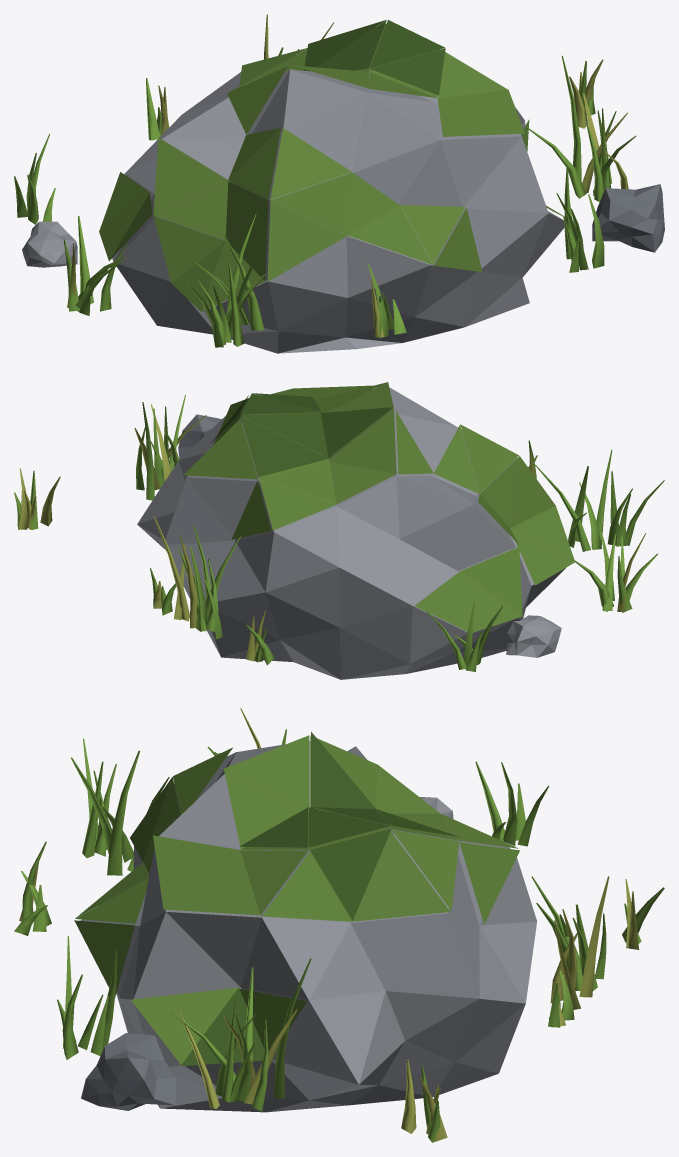
Rendered from boulder-2.glb.
3 views of the same model, one above another, from view 1: azimuth 30°, elevation 25°; view 2: azimuth 150°, elevation 25°; view 3: azimuth 270°, elevation 25° (orthographic). The views are drawn at different scales.
Parts seen in each view (by area): view 1: boulder, moss_patches, moss_thick, pebble_1, grass_tuft_1, grass_tuft_2, grass_tuft_5, pebble_2, grass_tuft_7, grass_tuft_8, grass_tuft_6, grass_tuft_4 (+1 smaller); view 2: boulder, moss_patches, moss_thick, grass_tuft_3, grass_tuft_2, grass_tuft_1, grass_tuft_5, pebble_2, grass_tuft_4, grass_tuft_8, pebble_1, grass_tuft_10 (+1 smaller); view 3: boulder, moss_patches, moss_thick, grass_tuft_1, pebble_1, grass_tuft_3, grass_tuft_2, grass_tuft_7, grass_tuft_8, grass_tuft_4, grass_tuft_6, grass_tuft_10 (+1 smaller).
Boxes of the visible parts, left/top/right/bottom form: boulder: left=112, top=65, right=564, bottom=353; moss_patches: left=99, top=23, right=563, bottom=311; moss_thick: left=303, top=20, right=445, bottom=95; pebble_1: left=592, top=184, right=664, bottom=252; grass_tuft_1: left=525, top=55, right=636, bottom=201; grass_tuft_2: left=187, top=213, right=265, bottom=347; grass_tuft_5: left=63, top=216, right=126, bottom=315; pebble_2: left=22, top=221, right=77, bottom=267; grass_tuft_7: left=556, top=167, right=604, bottom=272; grass_tuft_8: left=14, top=134, right=55, bottom=224; grass_tuft_6: left=367, top=264, right=406, bottom=338; grass_tuft_4: left=569, top=59, right=603, bottom=128; boulder: left=137, top=387, right=568, bottom=679; moss_patches: left=183, top=382, right=574, bottom=632; moss_thick: left=211, top=393, right=393, bottom=477; grass_tuft_3: left=153, top=516, right=240, bottom=639; grass_tuft_2: left=535, top=449, right=664, bottom=551; grass_tuft_1: left=134, top=395, right=206, bottom=500; grass_tuft_5: left=571, top=532, right=657, bottom=612; pebble_2: left=506, top=615, right=561, bottom=657; grass_tuft_4: left=14, top=468, right=60, bottom=529; grass_tuft_8: left=425, top=600, right=503, bottom=671; pebble_1: left=178, top=414, right=221, bottom=459; grass_tuft_10: left=246, top=610, right=274, bottom=665; boulder: left=80, top=741, right=536, bottom=1112; moss_patches: left=74, top=735, right=519, bottom=1064; moss_thick: left=181, top=732, right=459, bottom=1066; grass_tuft_1: left=170, top=958, right=311, bottom=1111; pebble_1: left=81, top=1033, right=175, bottom=1110; grass_tuft_3: left=531, top=876, right=609, bottom=1009; grass_tuft_2: left=71, top=738, right=169, bottom=875; grass_tuft_7: left=57, top=936, right=117, bottom=1059; grass_tuft_8: left=475, top=761, right=549, bottom=846; grass_tuft_4: left=401, top=1060, right=447, bottom=1142; grass_tuft_6: left=14, top=841, right=51, bottom=935; grass_tuft_10: left=622, top=879, right=664, bottom=949.
Bounding box in the file's own units: 4.13 × 1.57 × 3.29.
